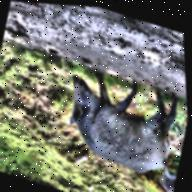boar: (44, 58, 191, 192), (156, 153, 182, 192)
